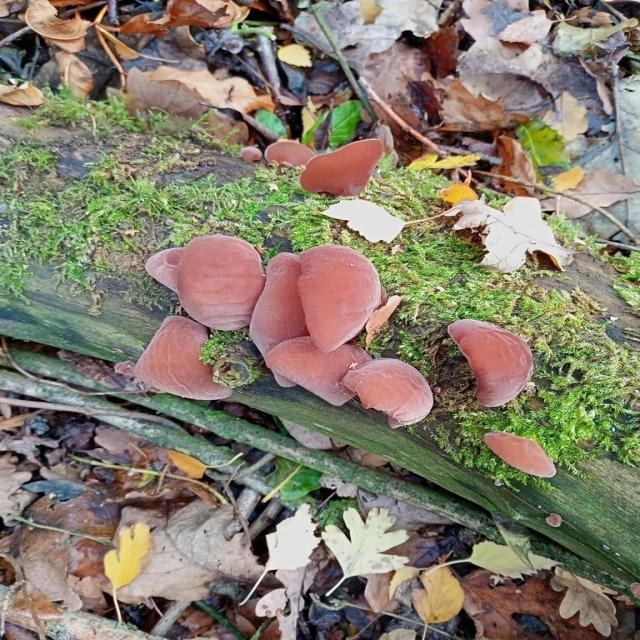Fase Muda: (142, 236, 270, 329), (296, 246, 391, 348), (134, 314, 238, 402), (447, 313, 535, 412), (250, 251, 309, 395), (264, 335, 368, 410), (344, 357, 437, 429), (300, 136, 387, 201)
primordia: (482, 428, 558, 479), (264, 142, 317, 168), (238, 142, 263, 164), (540, 511, 568, 530), (115, 360, 137, 377)
